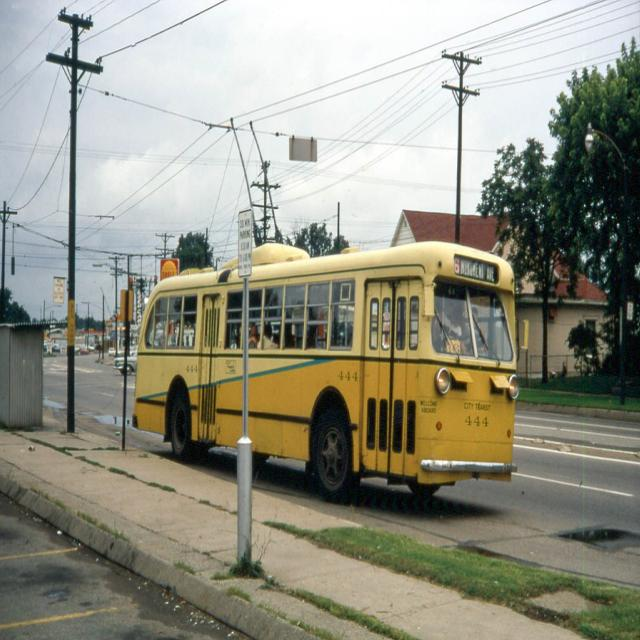car: (111, 346, 137, 377)
